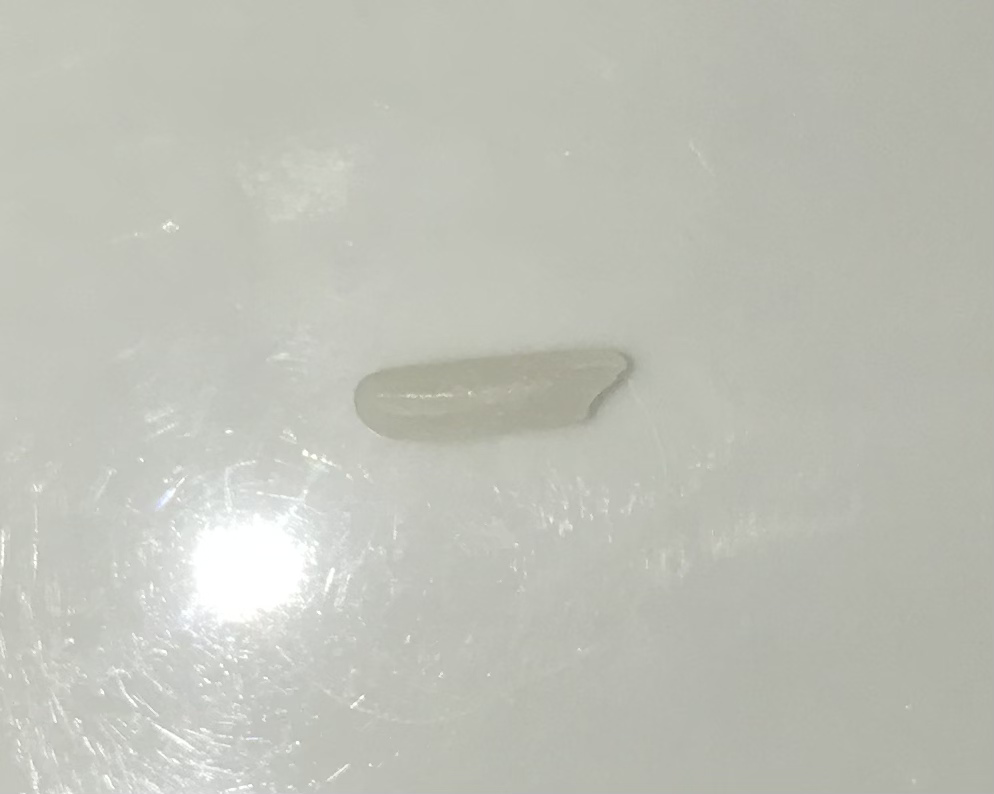Gao Thom Go Cong: (351, 327, 641, 469)
